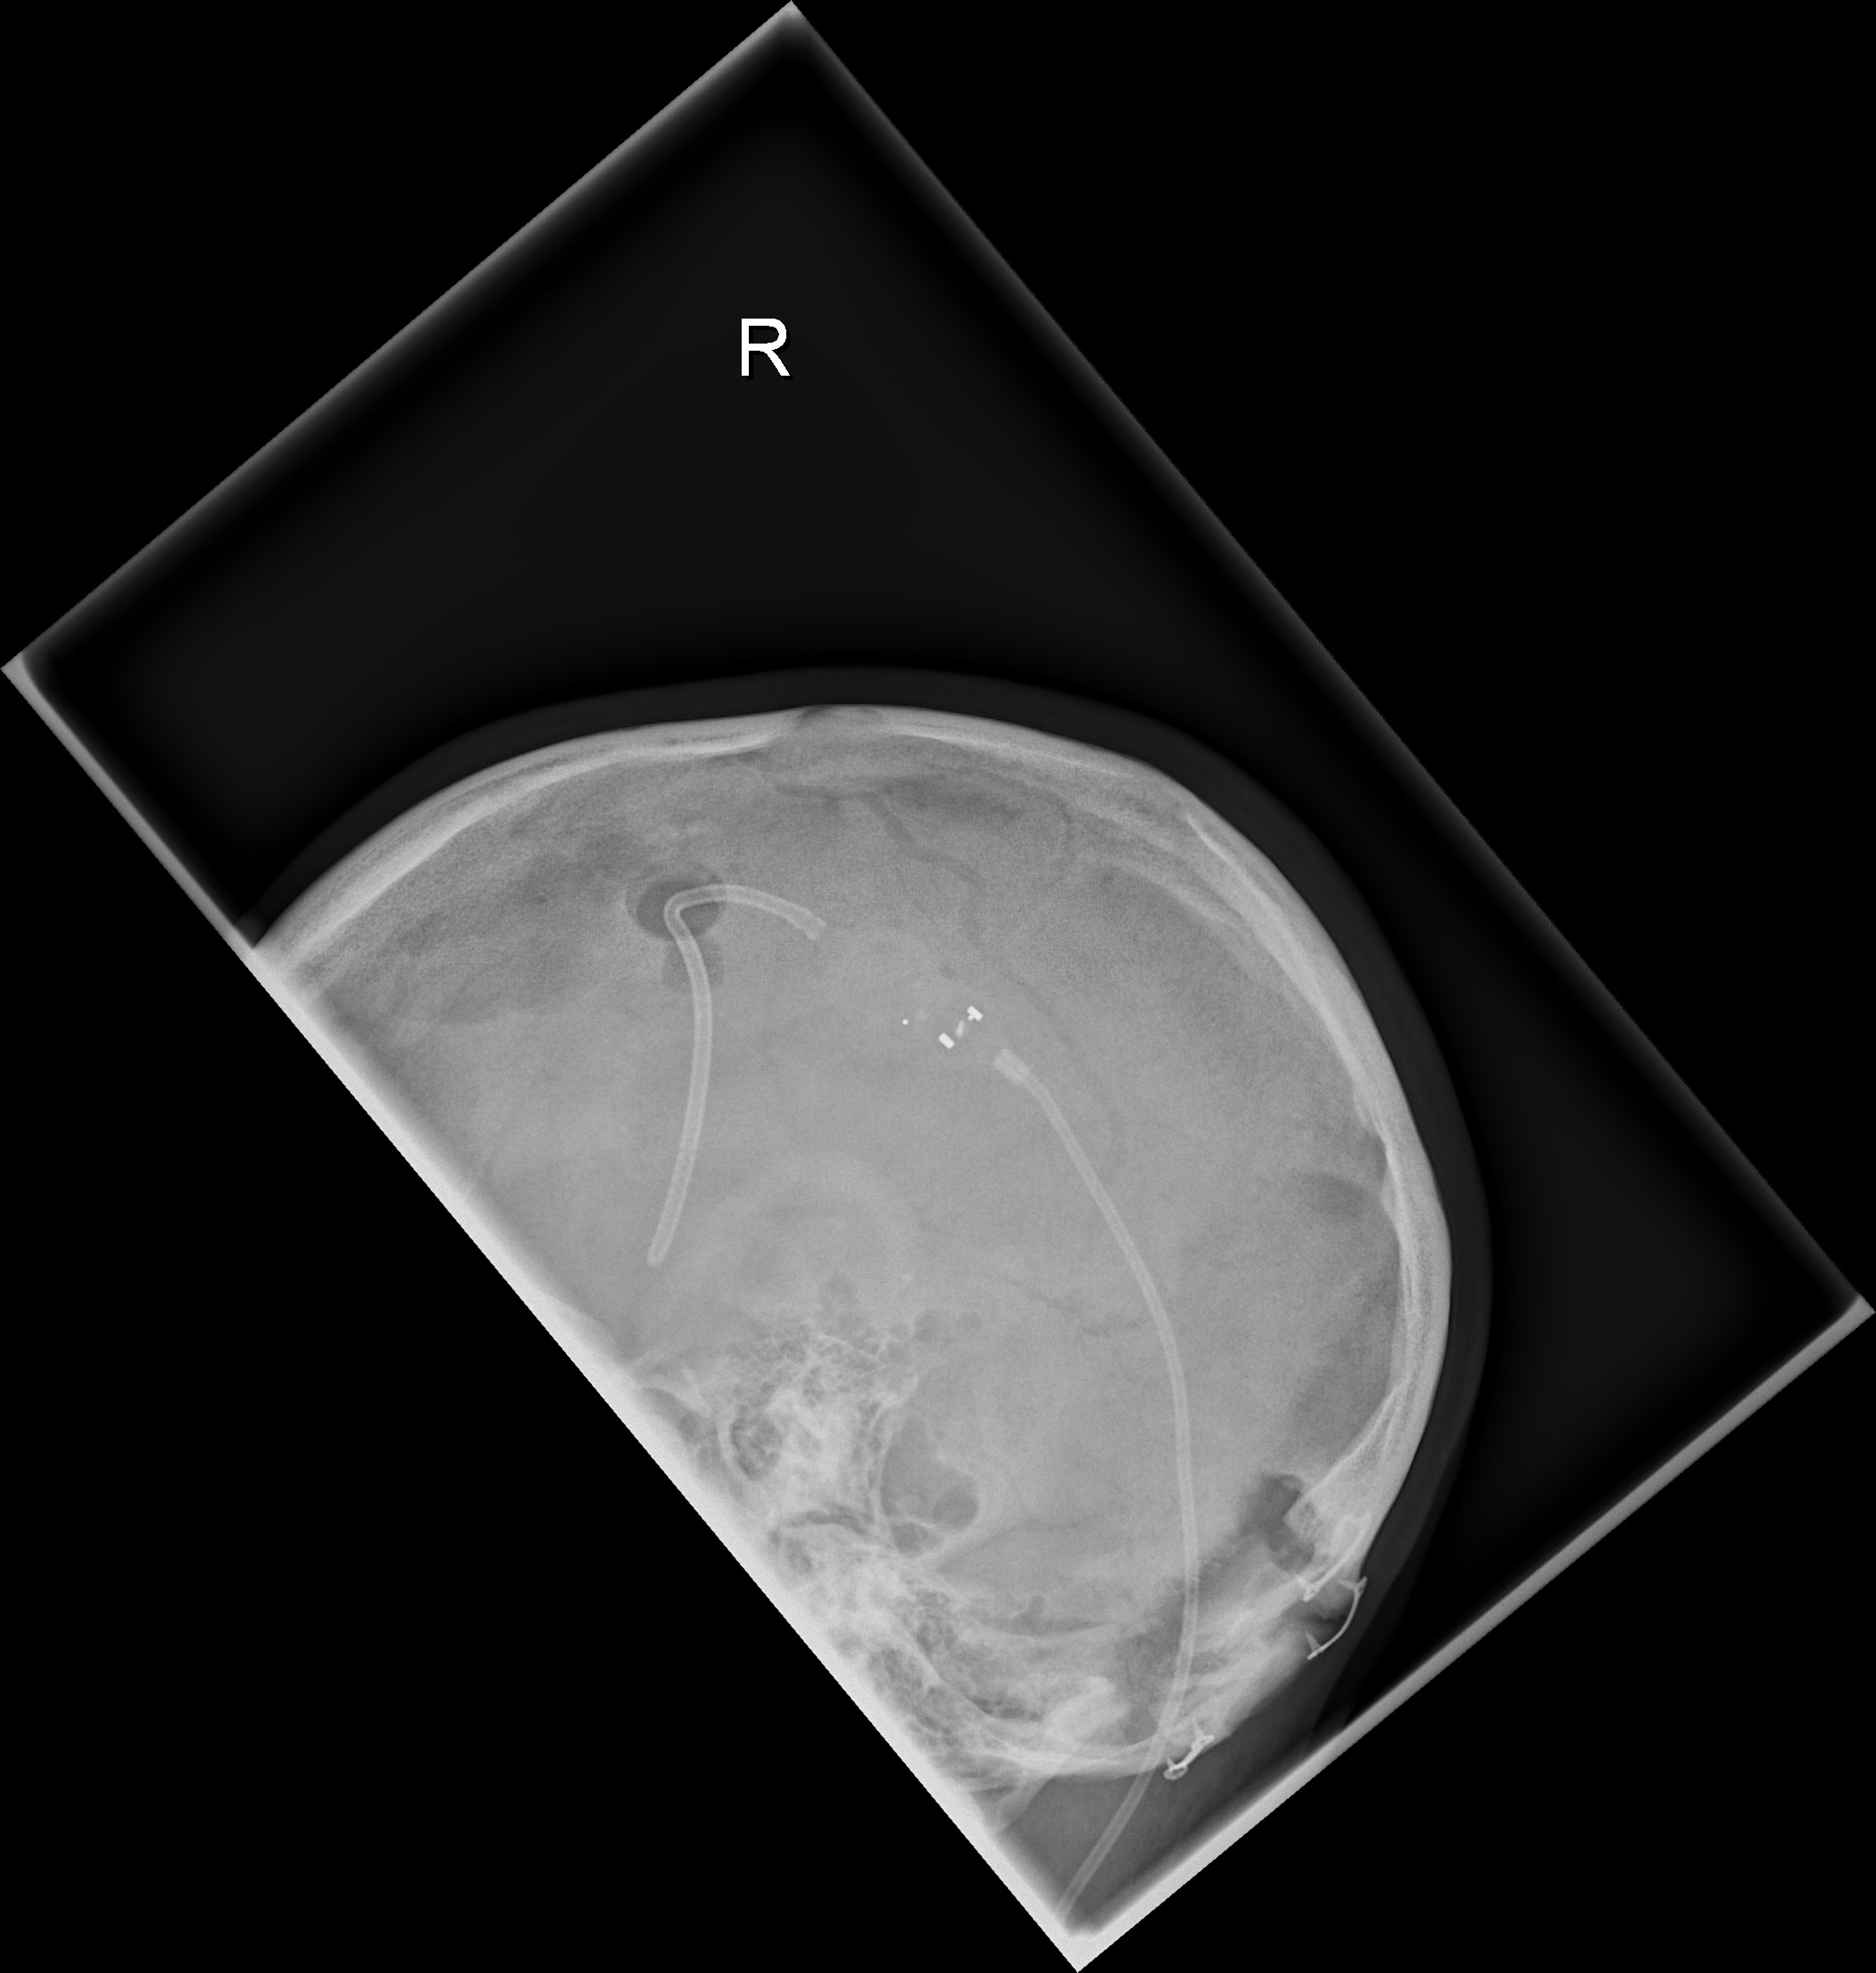Codman Certas: (886, 992, 1004, 1068)
